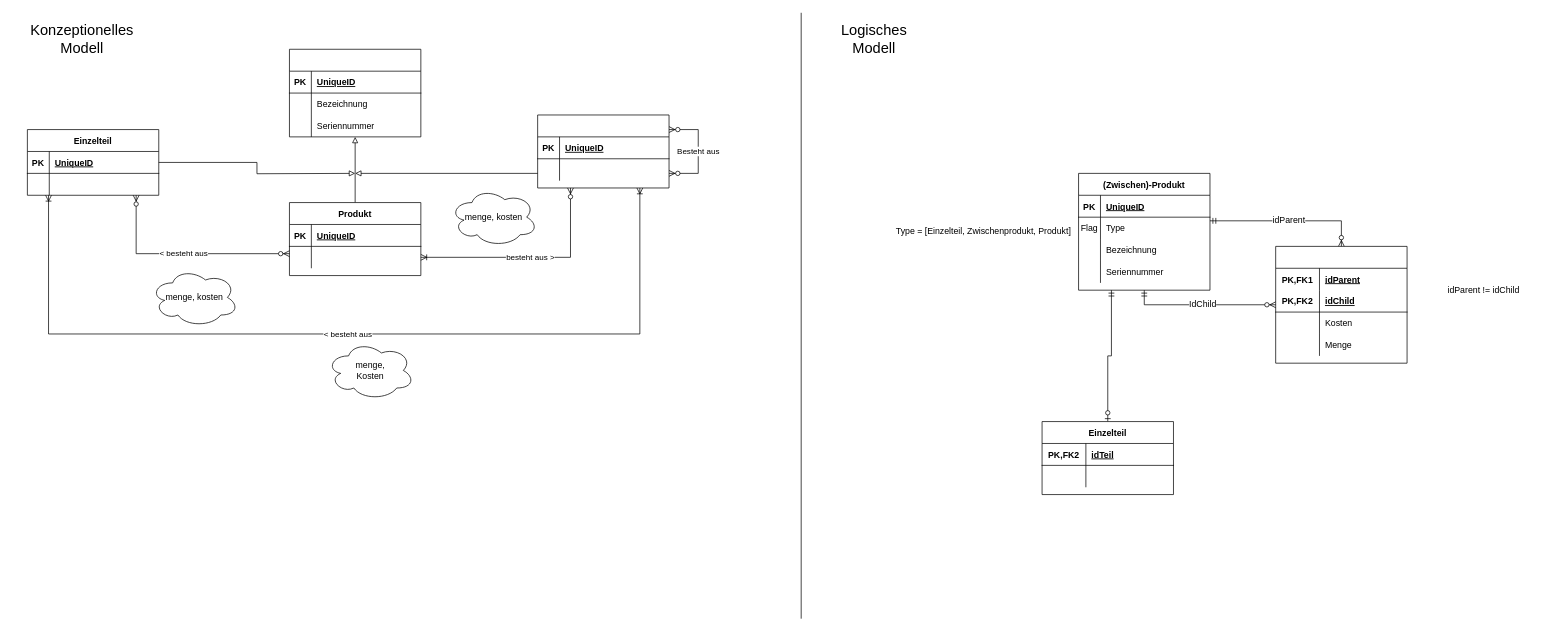
This 1551x632 diagram has some shape labels left out. The box of each missing label's shape, as (x1, y1, x2, y2) in pixels:
Artikel: (289, 49, 421, 137)
Bauplan: (1275, 246, 1407, 363)
Zwischenprodukt: (537, 114, 669, 188)
